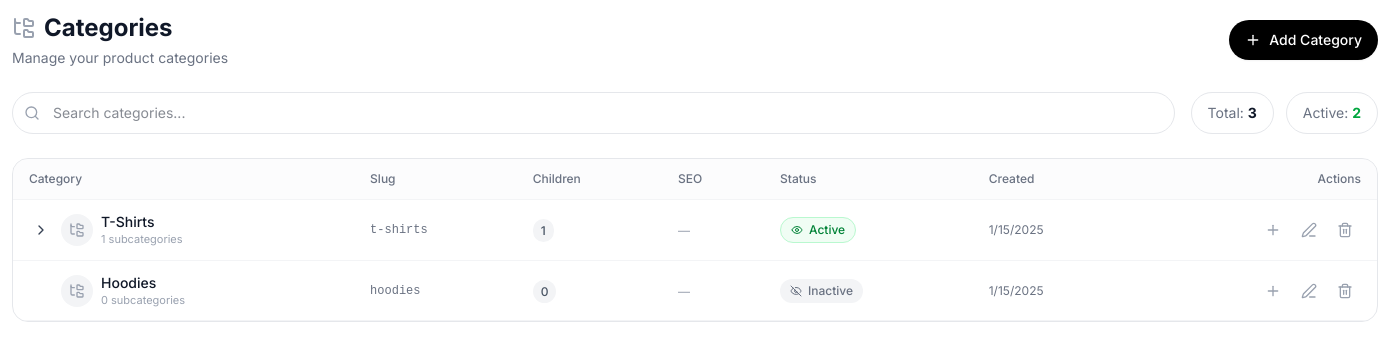
CategoryTable › search › filters categories by slug
Type "t-shirt" into the field with placeholder "Search categories..." at x=593, y=113, box [12,92,1174,134]
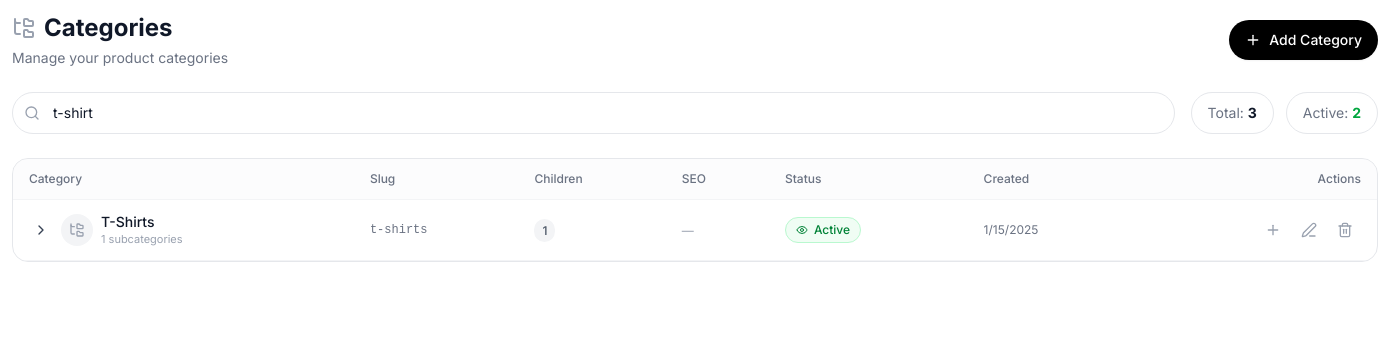
Expected: the text "T-Shirts" is shown, [101,213,154,230]
Now the text "Hoodies" is gone
